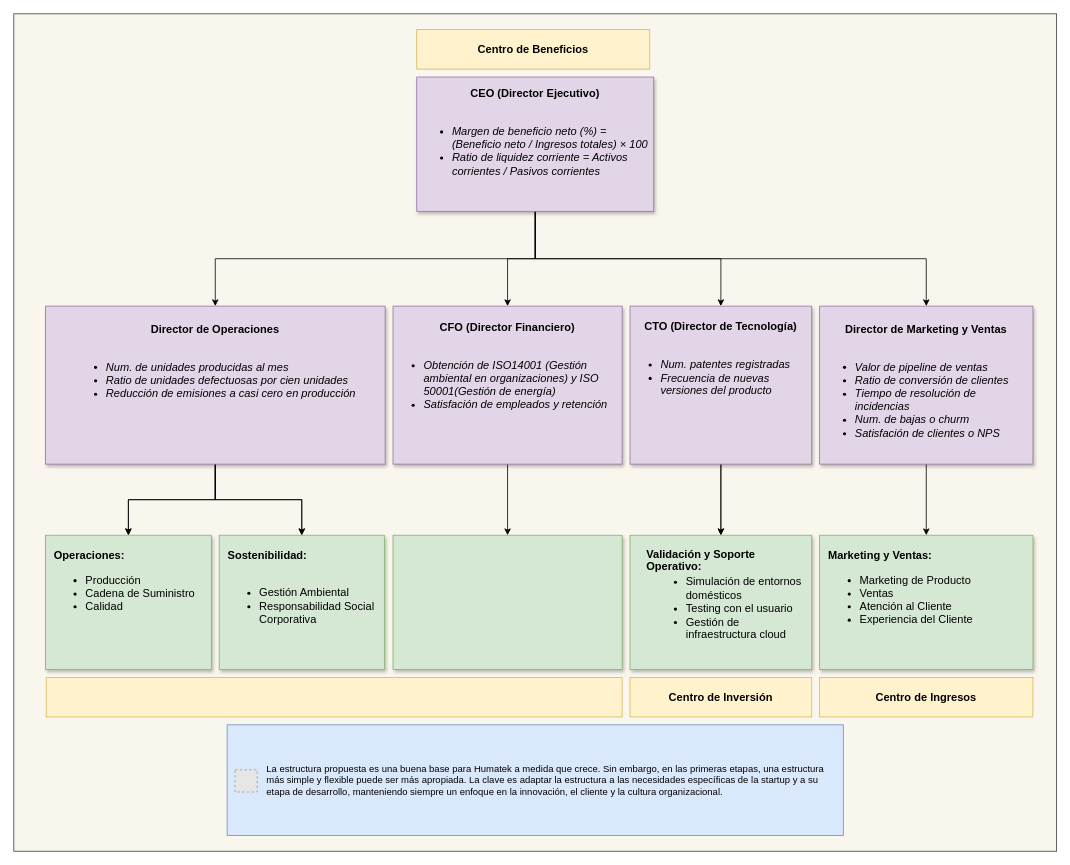
This 1070x865 diagram has some shape labels left out. Grey dashed boxes stand in for pictures. The shapes that lost their labels are listed below. From the top down, each one's centre as x and y in pixels, then its label:
At point 508,603: "Finanzas y Administración: Contabilidad Recursos Humanos Legal".
At point 333,697: "Centro de Costes".
